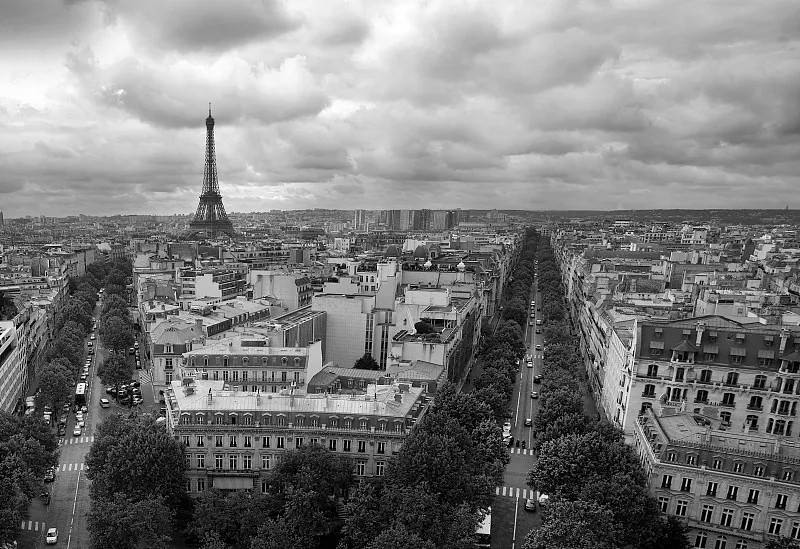Eiffel: (180, 101, 239, 242)
